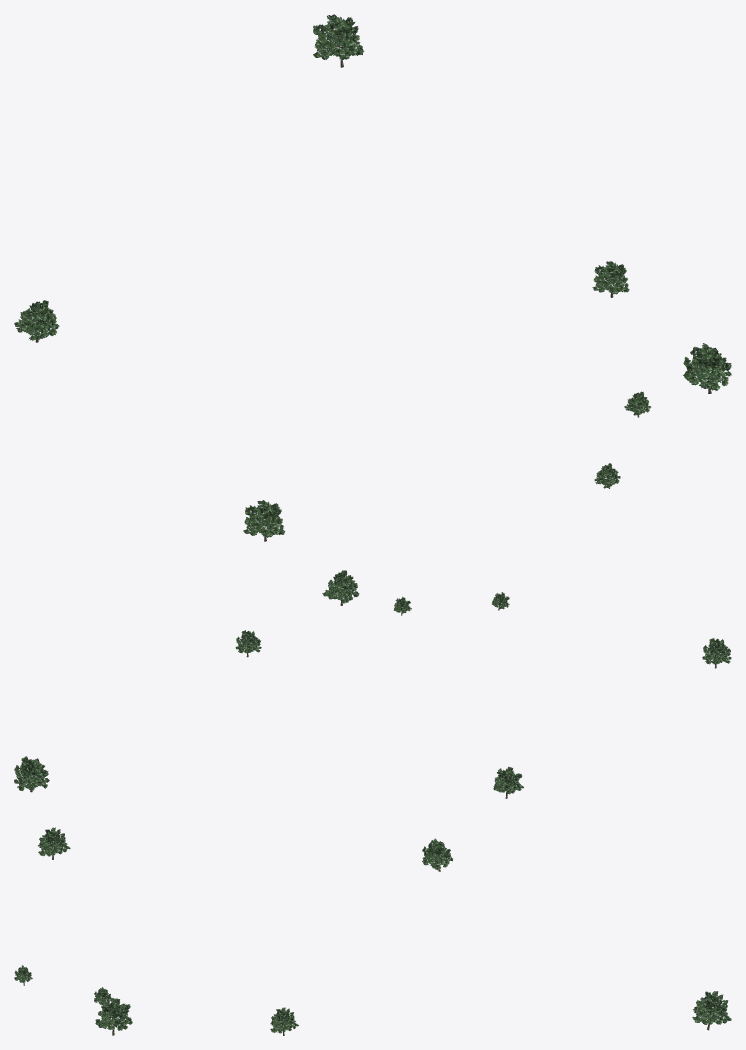
The picture shows the model from 3 angles, top to bottom: view 1: azimuth 30°, elevation 25°; view 2: azimuth 150°, elevation 25°; view 3: azimuth 270°, elevation 25°; orthographic projection. The views are drawn at different scales.
Parts seen in each view (by area): view 1: 树带透明通道; view 2: 树带透明通道; view 3: 树带透明通道.
Boxes of the visible parts, left/top/right/bottom form: 树带透明通道: left=14, top=14, right=731, bottom=541; 树带透明通道: left=14, top=570, right=731, bottom=798; 树带透明通道: left=14, top=827, right=731, bottom=1035.
Bounding box in the file's own units: 566 × 83.17 × 850.
Materials: 2 (2 with a texture image).
